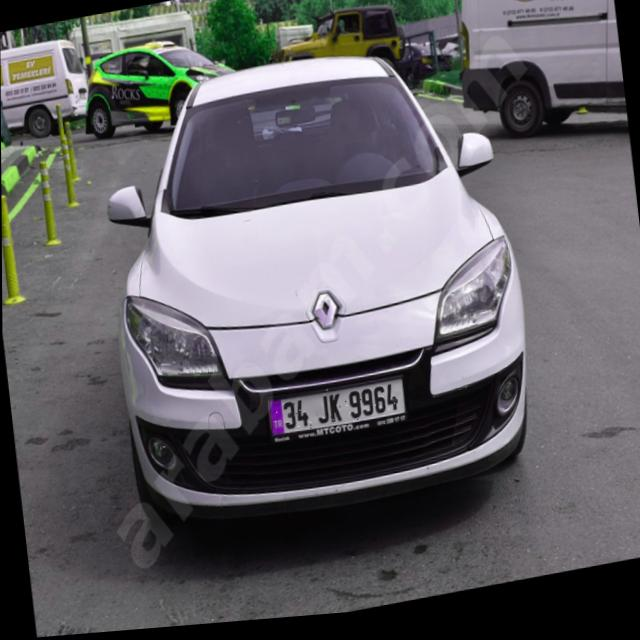license_plate: (267, 381, 405, 442)
